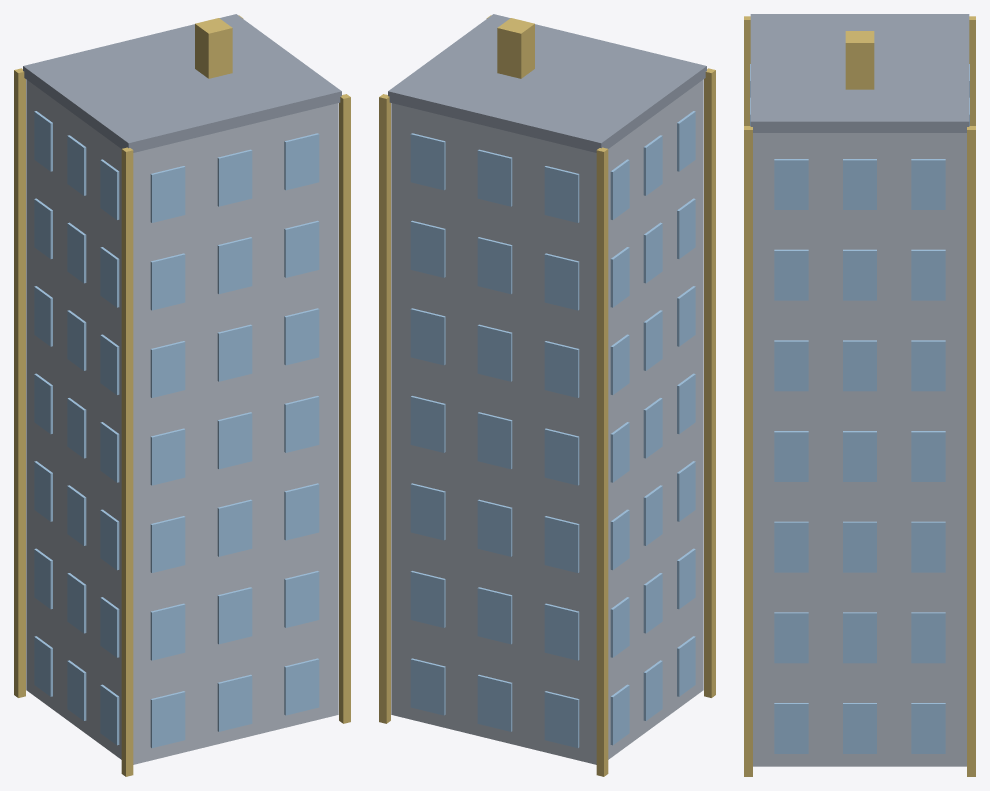
The model's file is office_a.glb.
3 views of the same model, side by side, from view 1: azimuth 30°, elevation 25°; view 2: azimuth 150°, elevation 25°; view 3: azimuth 270°, elevation 25° (orthographic). The views are drawn at different scales.
Bounding box in the file's own units: 7.53 × 21.6 × 6.49.
